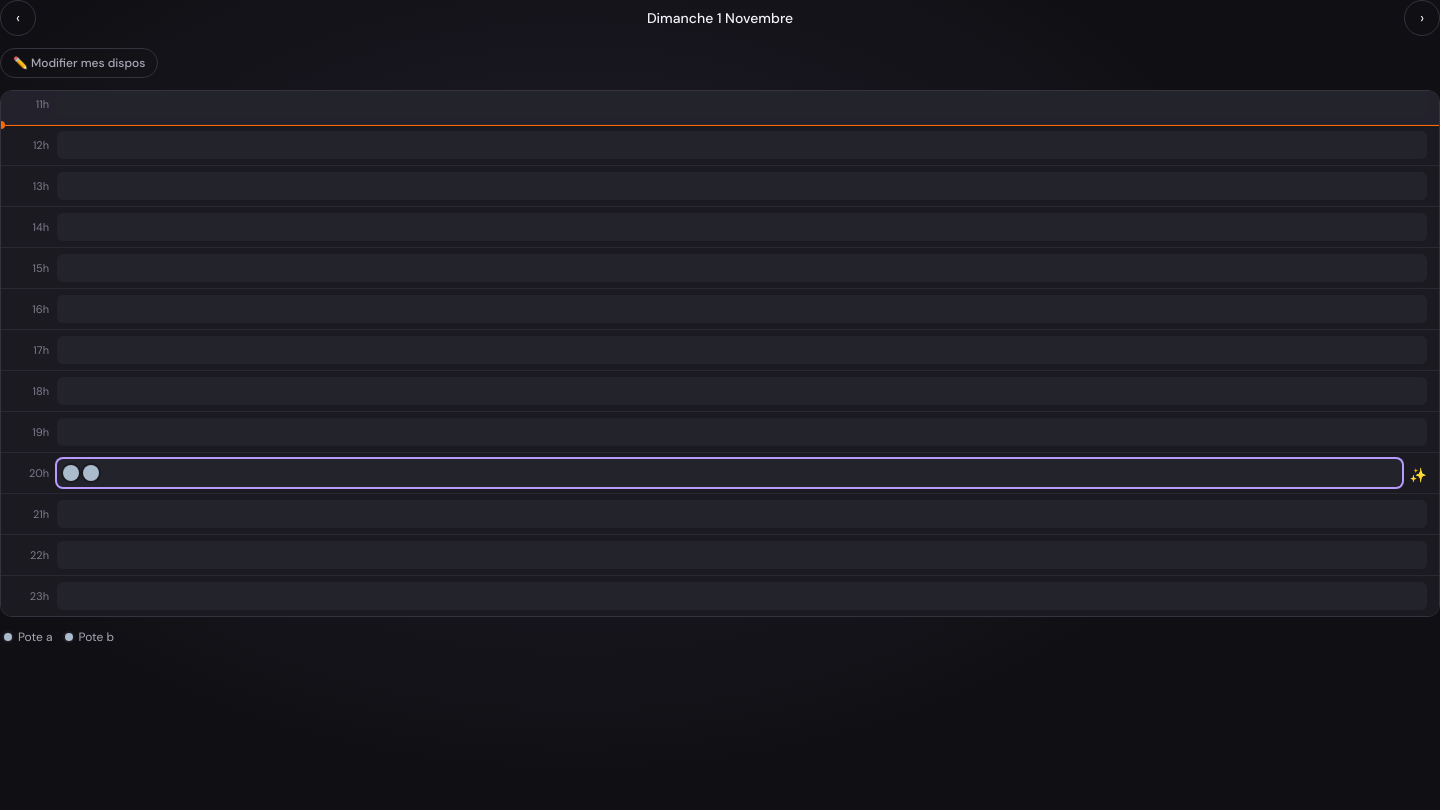
Test: calendrier tactile : créer au créneau choisi › le créneau avec plusieurs potes permet aussi de créer sans remonter la page
(page scrolled)
Click the button named "20h — 2 potes dispo". click: (71, 473)
box: [57,459,1402,487]
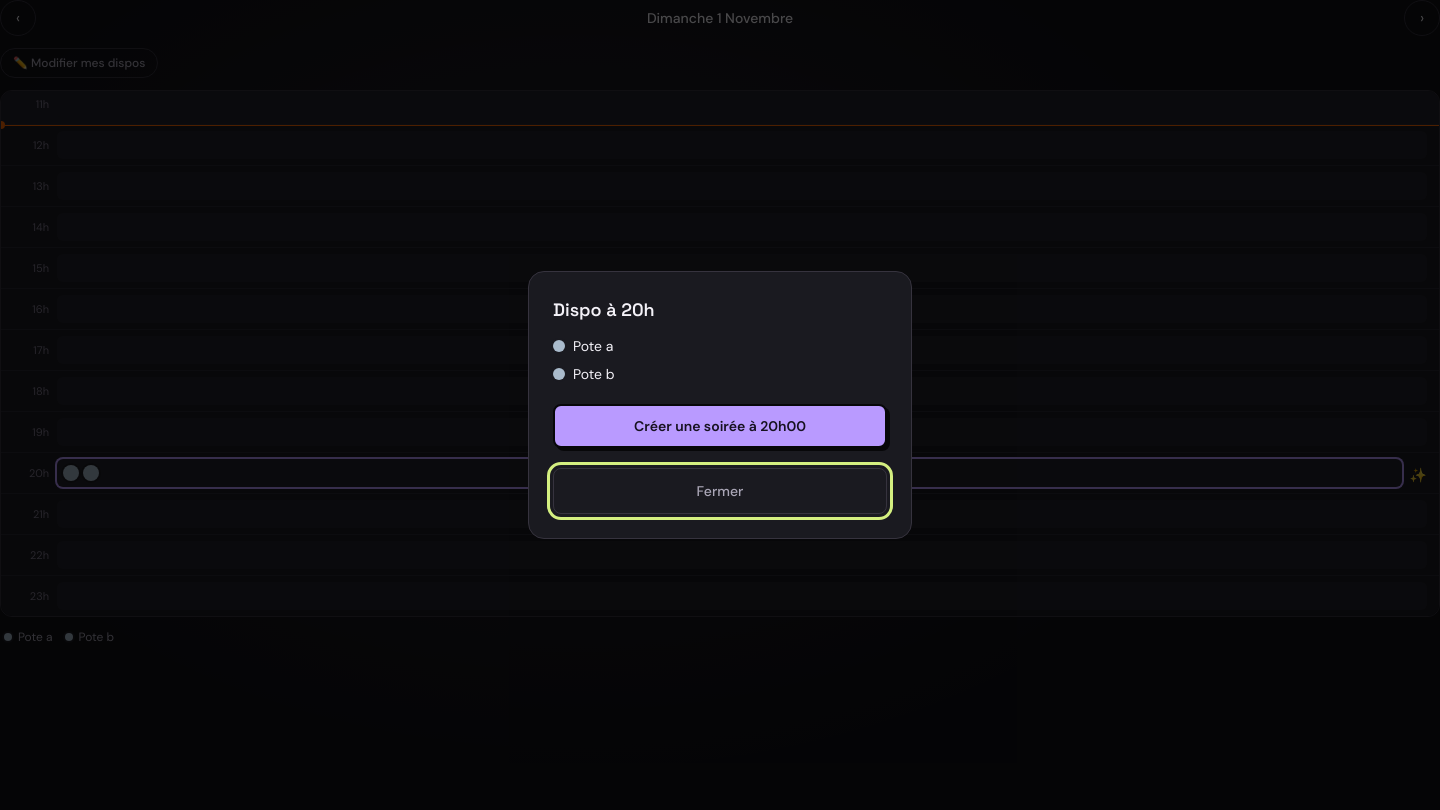
Expected: the list item "Pote a" is shown, [553,337,613,355]
